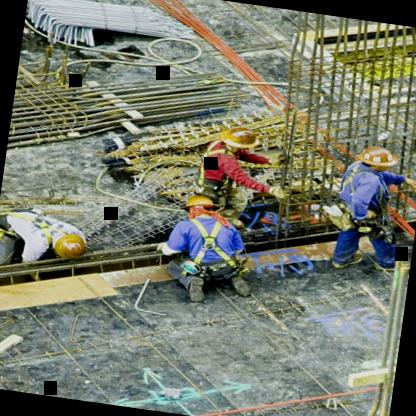helmet: (218, 122, 260, 154), (356, 143, 400, 173), (52, 230, 90, 263), (182, 192, 218, 221)
